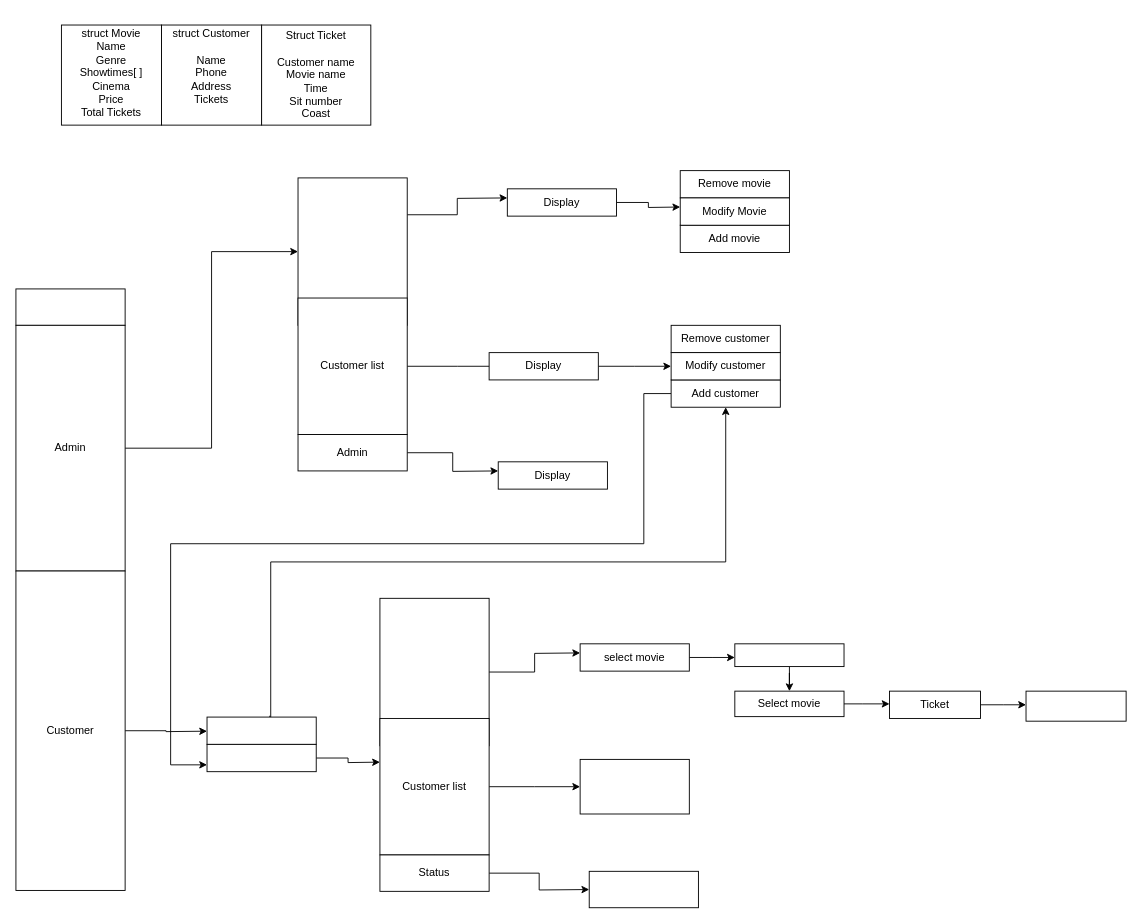
The diagram is 1142 pixels wide and 924 high, and some of its shapes have lost their labels. The centre of each missing label's shape, as x and y in pixels:
"Booking ticket" belongs at (x=434, y=671).
"Checkout" belongs at (x=1075, y=705).
"Display customers" belongs at (x=634, y=786).
"Display movies" belongs at (x=789, y=655).
"Display ticket" belongs at (x=643, y=889).
"main menu" belongs at (x=70, y=306).
"Movie list" belongs at (x=352, y=251).
"new" belongs at (x=261, y=730).
"Registerd" belongs at (x=261, y=757).
